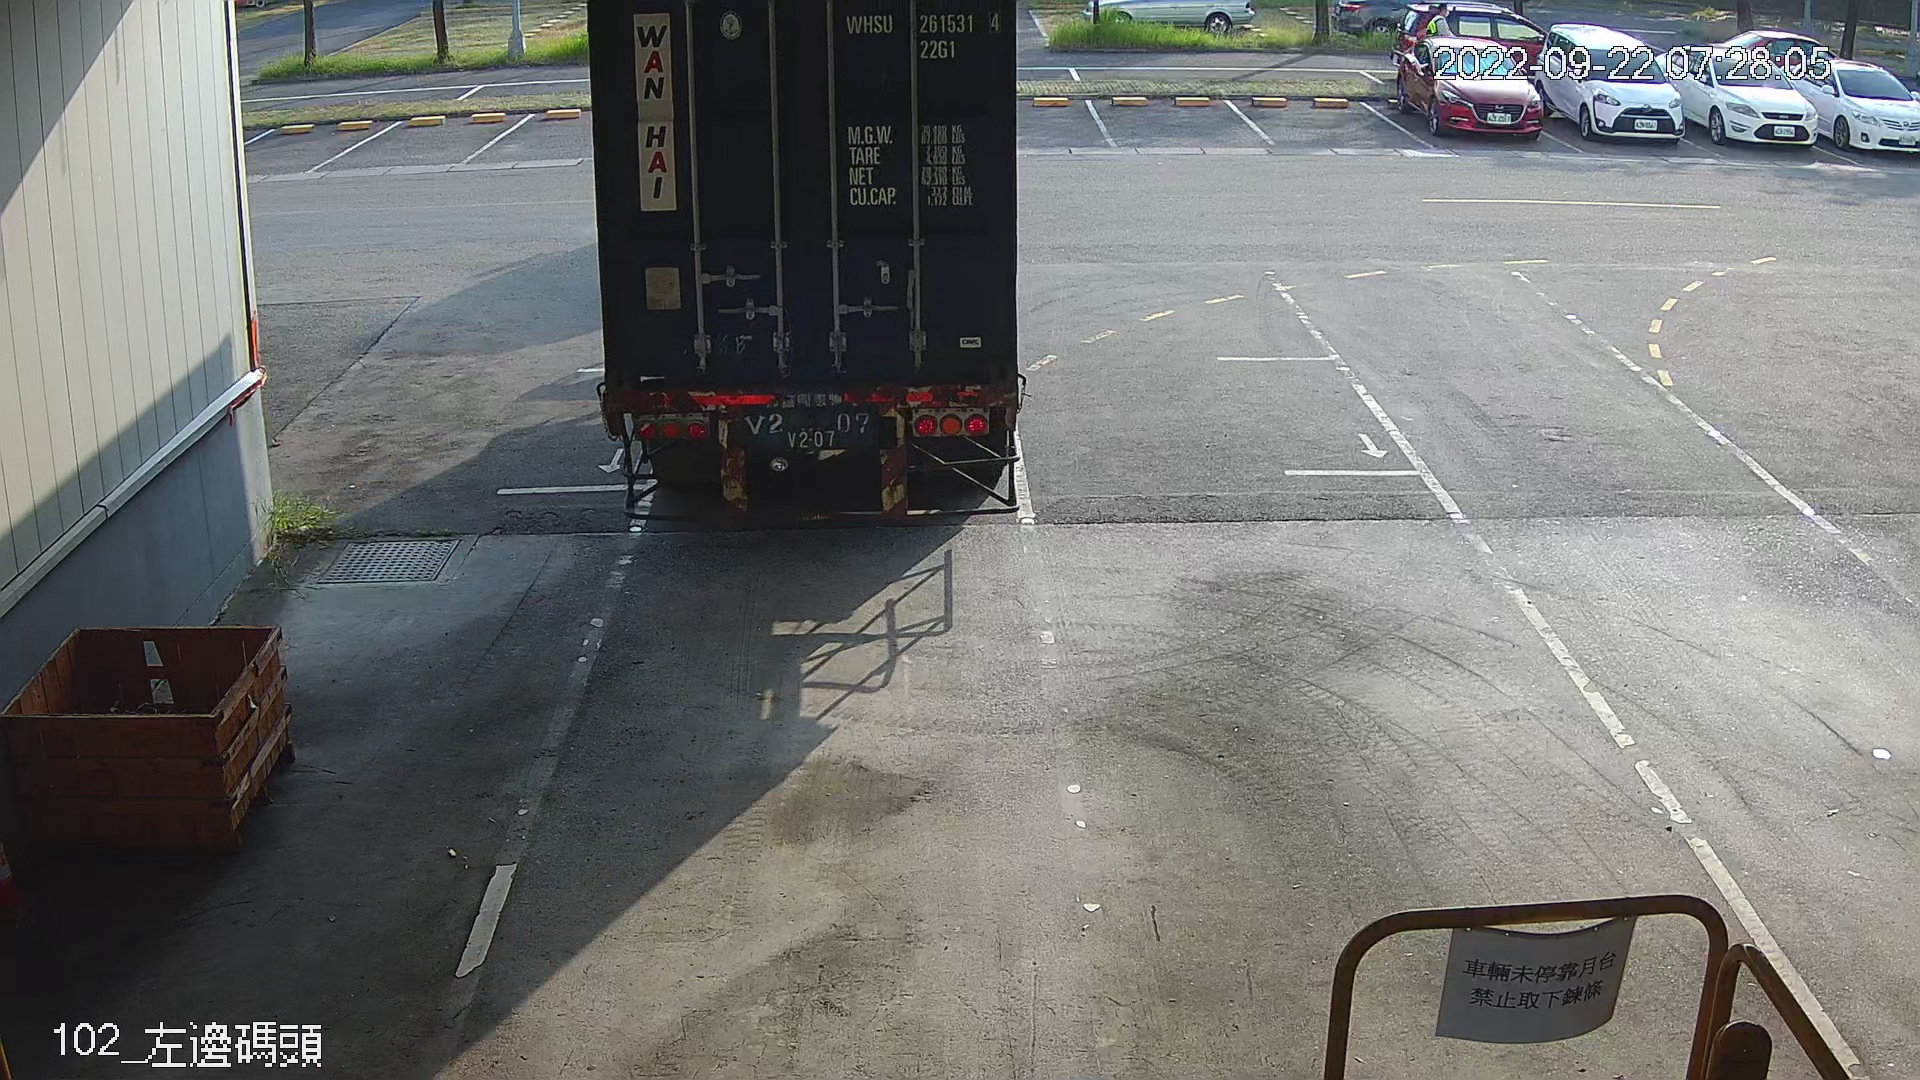container: (837, 4, 1006, 65)
